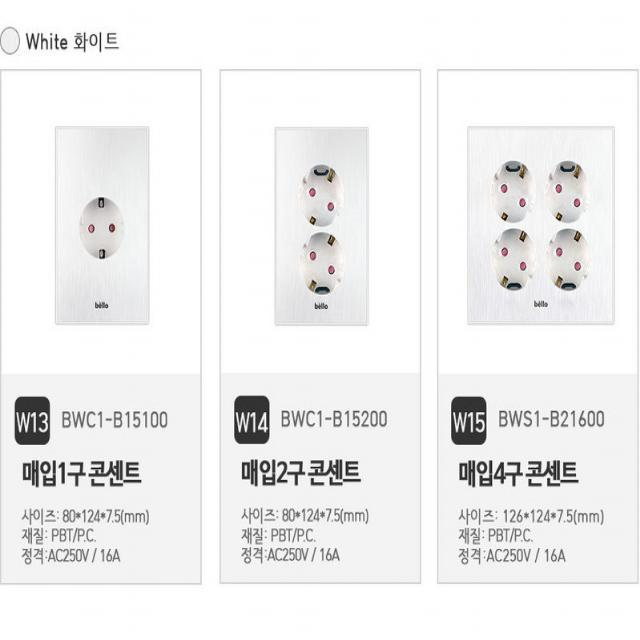typeb: (453, 100, 625, 350), (250, 88, 388, 354), (34, 103, 172, 344)
